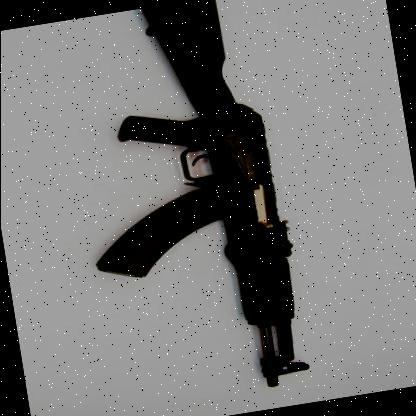rifle: (49, 0, 342, 411)
